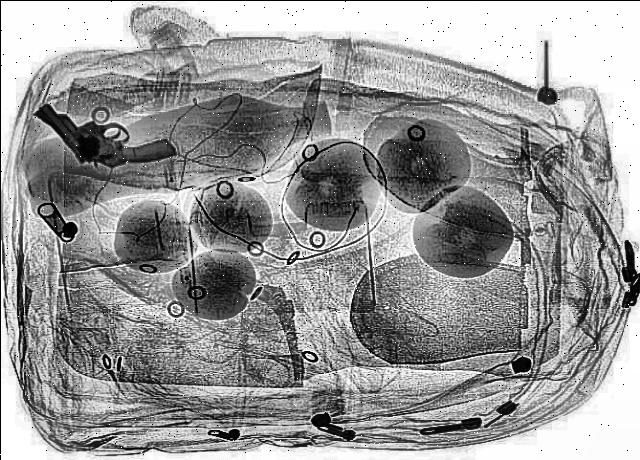Gun: (5, 84, 183, 190)
